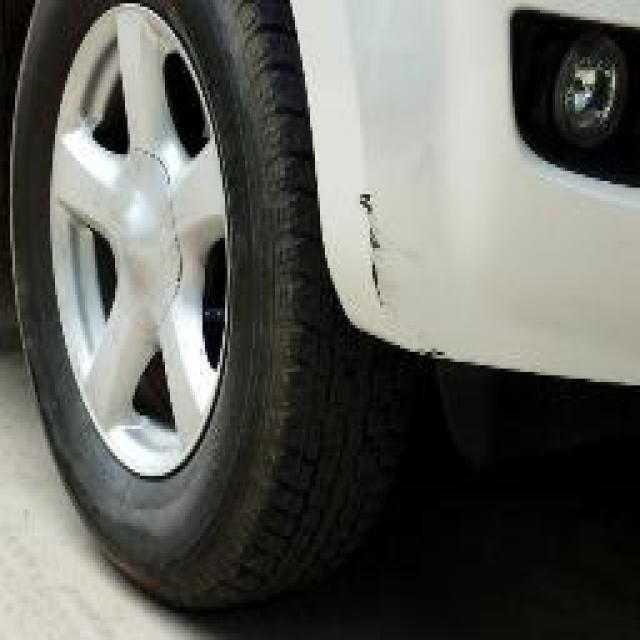Bumper: (322, 114, 442, 312)
